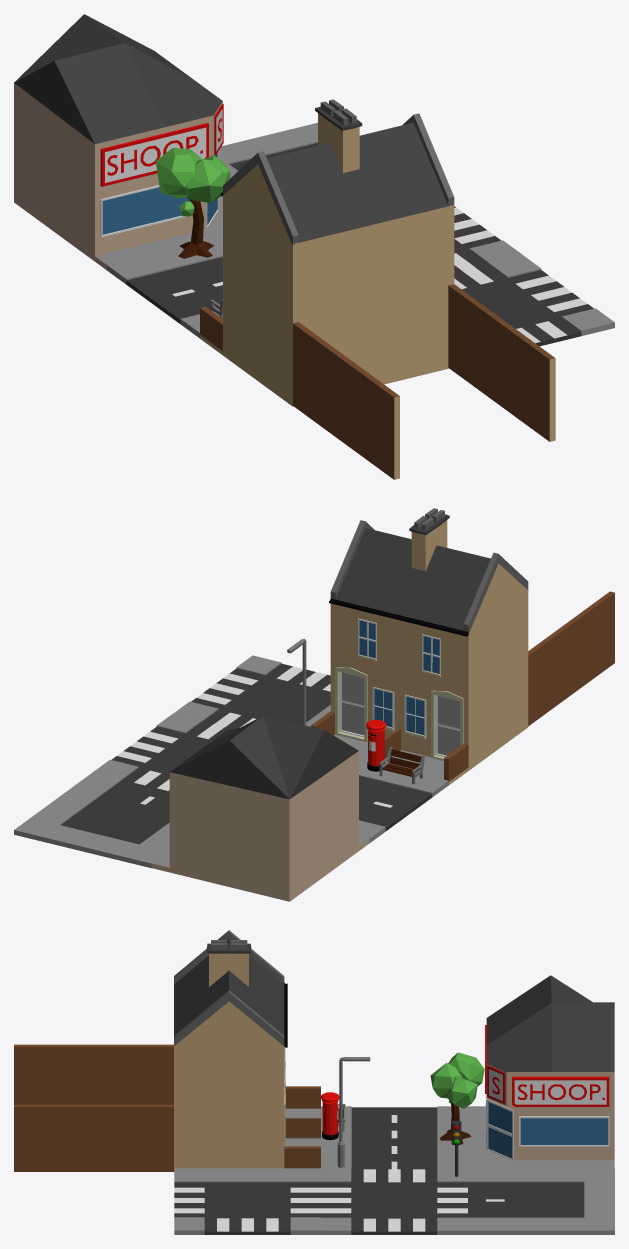
File: mainStreetAssets.fbx
3 renders of one model, top to bottom at view 1: azimuth 30°, elevation 25°; view 2: azimuth 150°, elevation 25°; view 3: azimuth 270°, elevation 25°, orthographic. The views are drawn at different scales.
Parts seen in each view (by area): view 1: Terrice Houses, Shoop, RoadT, RoadMain, Tree, RoadEnd, RoadCross; view 2: Terrice Houses, Shoop, RoadEnd, RoadT, RoadCross, RoadMain, Bench, PostBox; view 3: Terrice Houses, Shoop, RoadT, RoadEnd, RoadCross, RoadMain, Tree, PostBox, Lamp Post.
Part boxes in pixels (<box>): Terrice Houses: <box>200,99,555,479</box>; Shoop: <box>14,14,223,270</box>; RoadT: <box>454,254,614,346</box>; RoadMain: <box>107,236,222,338</box>; Tree: <box>155,148,229,258</box>; RoadEnd: <box>219,122,317,178</box>; RoadCross: <box>454,206,521,272</box>; Terrice Houses: <box>311,508,614,785</box>; Shoop: <box>152,715,369,901</box>; RoadEnd: <box>14,772,169,868</box>; RoadT: <box>173,655,330,728</box>; RoadCross: <box>94,713,230,791</box>; RoadMain: <box>359,759,448,843</box>; Bench: <box>379,747,424,784</box>; PostBox: <box>366,719,386,771</box>; Terrice Houses: <box>14,930,320,1172</box>; Shoop: <box>468,975,614,1168</box>; RoadT: <box>174,1168,321,1234</box>; RoadEnd: <box>468,1168,614,1234</box>; RoadCross: <box>321,1168,467,1234</box>; RoadMain: <box>321,1106,467,1169</box>; Tree: <box>430,1052,484,1144</box>; PostBox: <box>320,1092,339,1140</box>; Lamp Post: <box>337,1057,370,1167</box>.
Bounding box in the file's own units: 16005 × 11974 × 32705.
